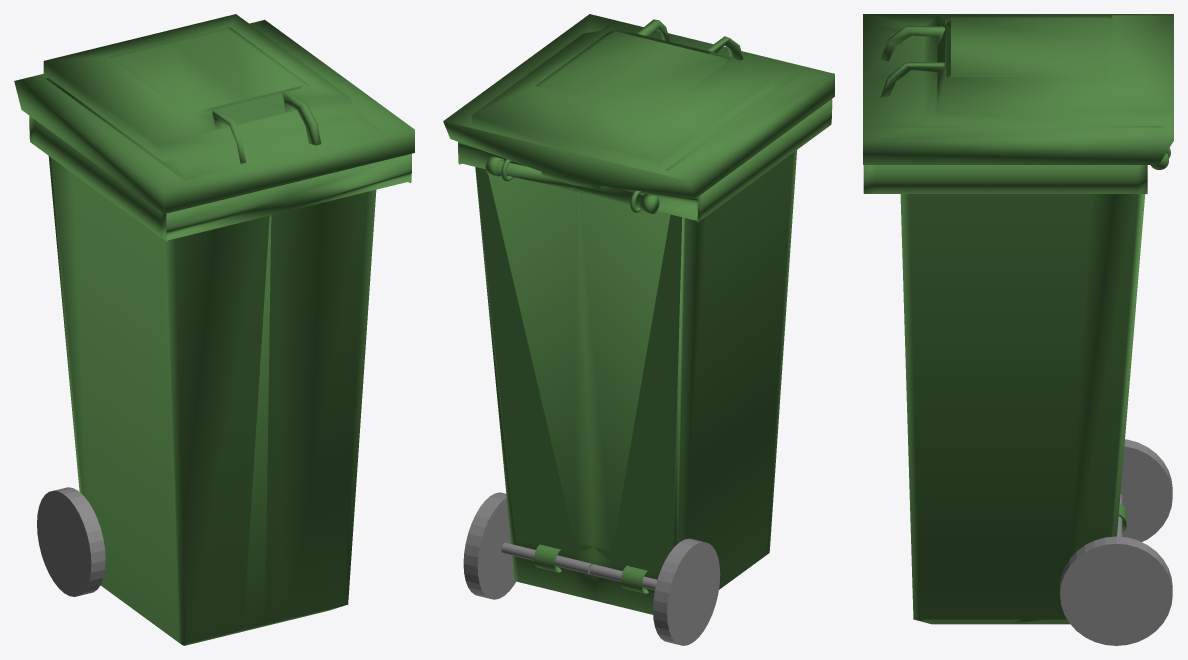
The model's file is caneca.glb.
The picture shows the model from 3 angles, left to right: view 1: azimuth 30°, elevation 25°; view 2: azimuth 150°, elevation 25°; view 3: azimuth 270°, elevation 25°; orthographic projection. The views are drawn at different scales.
Parts seen in each view (by area): view 1: Plane, Plane.001, Cylinder; view 2: Plane, Plane.001, Cylinder, Cylinder.002, Cylinder.001; view 3: Plane, Plane.001, Cylinder.002, Cylinder.
Boxes of the visible parts, x1=… form: Plane: x1=29, y1=116, x2=411, y2=645; Plane.001: x1=14, y1=14, x2=414, y2=213; Cylinder: x1=37, y1=487, x2=105, y2=596; Plane: x1=458, y1=99, x2=832, y2=614; Plane.001: x1=443, y1=14, x2=834, y2=213; Cylinder: x1=590, y1=538, x2=720, y2=645; Cylinder.002: x1=463, y1=492, x2=592, y2=599; Cylinder.001: x1=534, y1=544, x2=648, y2=593; Plane: x1=863, y1=165, x2=1147, y2=624; Plane.001: x1=863, y1=14, x2=1173, y2=169; Cylinder.002: x1=1060, y1=536, x2=1172, y2=645; Cylinder: x1=1117, y1=439, x2=1172, y2=541.
Size of the model in its own units: 1.97 by 3.96 by 2.04.
